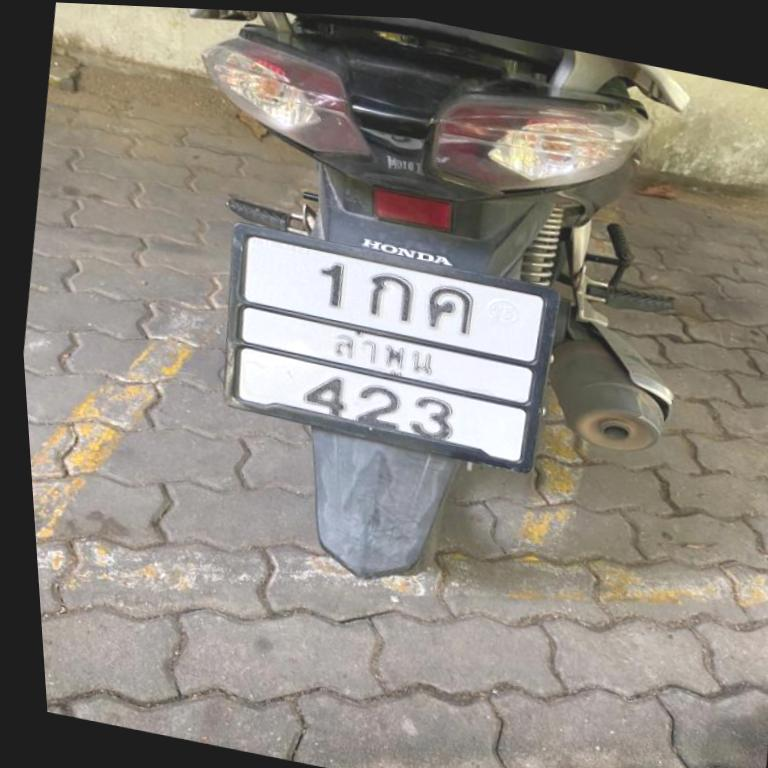license plate: (224, 224, 555, 472)
